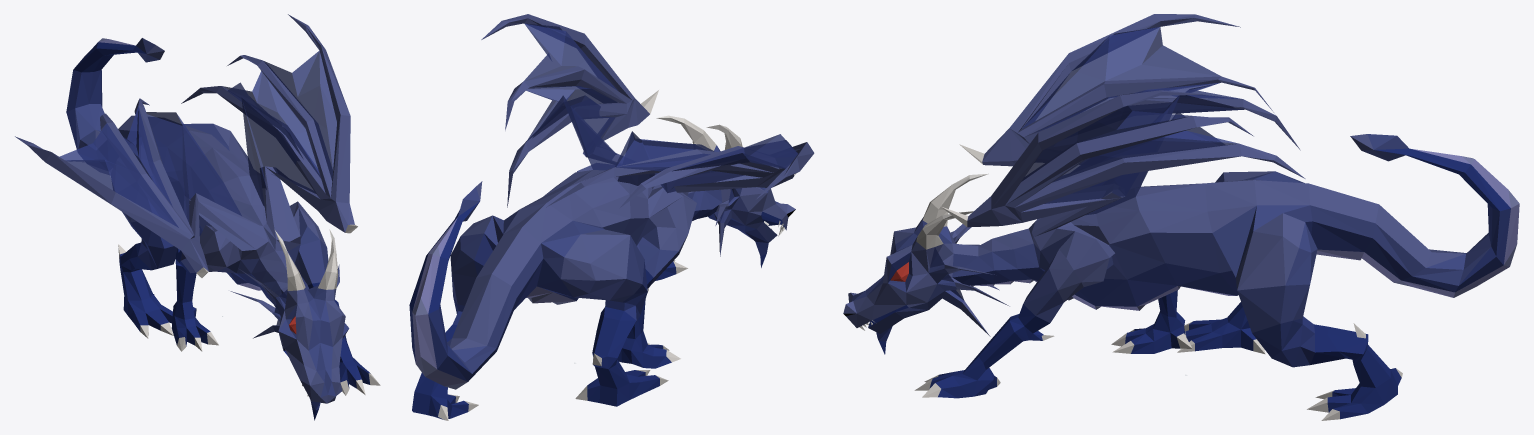
File: blue_dragon.glb
3 renders of one model, left to right at view 1: azimuth 30°, elevation 25°; view 2: azimuth 150°, elevation 25°; view 3: azimuth 270°, elevation 25°, orthographic. The views are drawn at different scales.
Size of the model in its own units: 292 by 297 by 546.
Materials: 2 (2 with a texture image).
